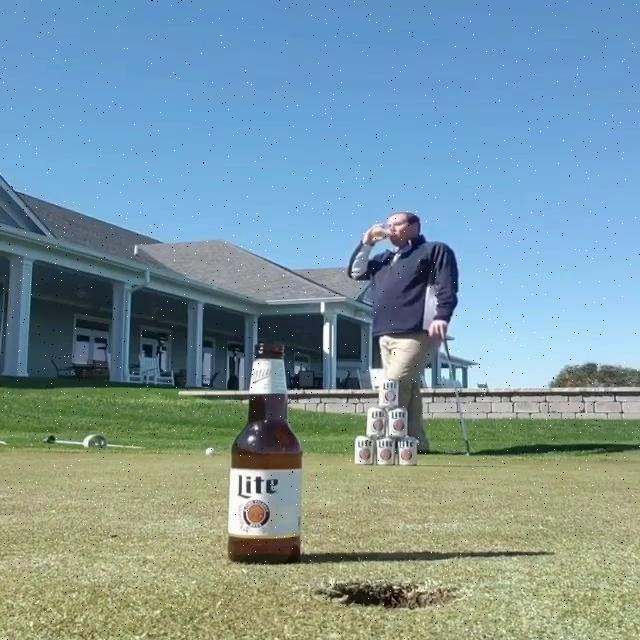ClubHead: (439, 334, 457, 342)
GolfBall: (205, 447, 218, 456)
